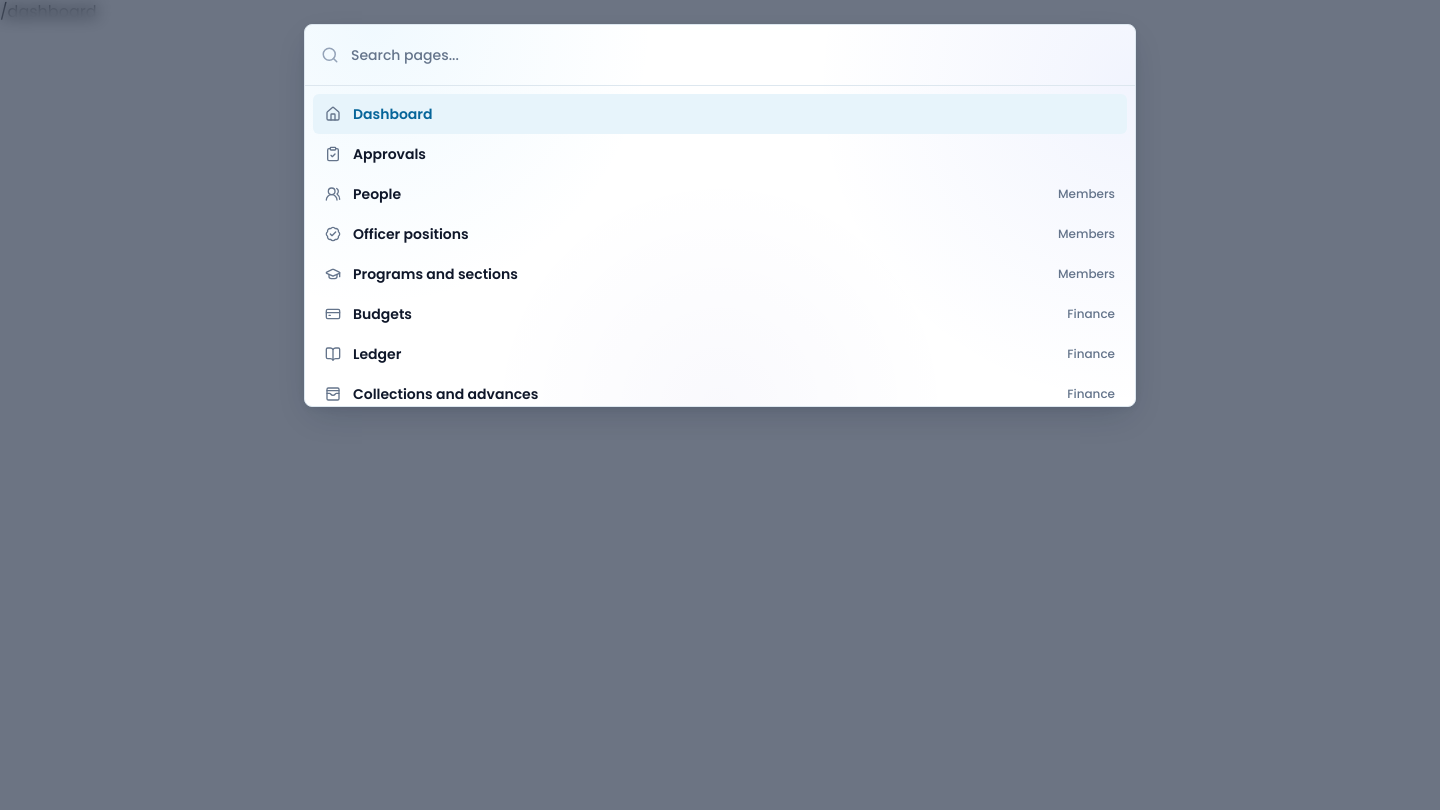
CommandPalette › finds ADMIN page by its old name Manage Users and shows the new label People
Type "Manage Users" into the dropdown labelled "Search pages" at (735, 55), box [351,37,1119,73]
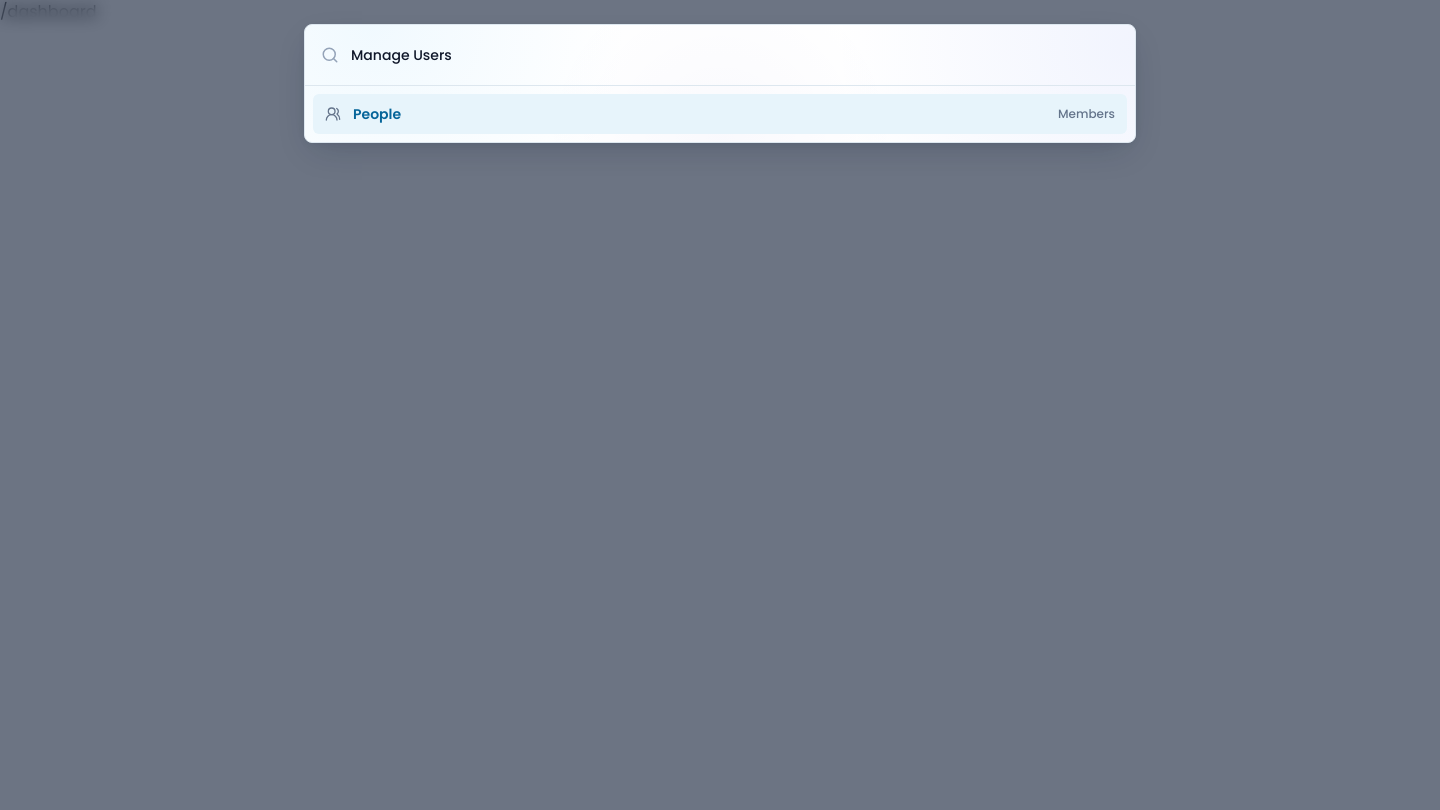
Expected: the option shows "People", [313,94,1127,134]
Press Enter in the dropdown named "Search pages", box [351,37,1119,73]
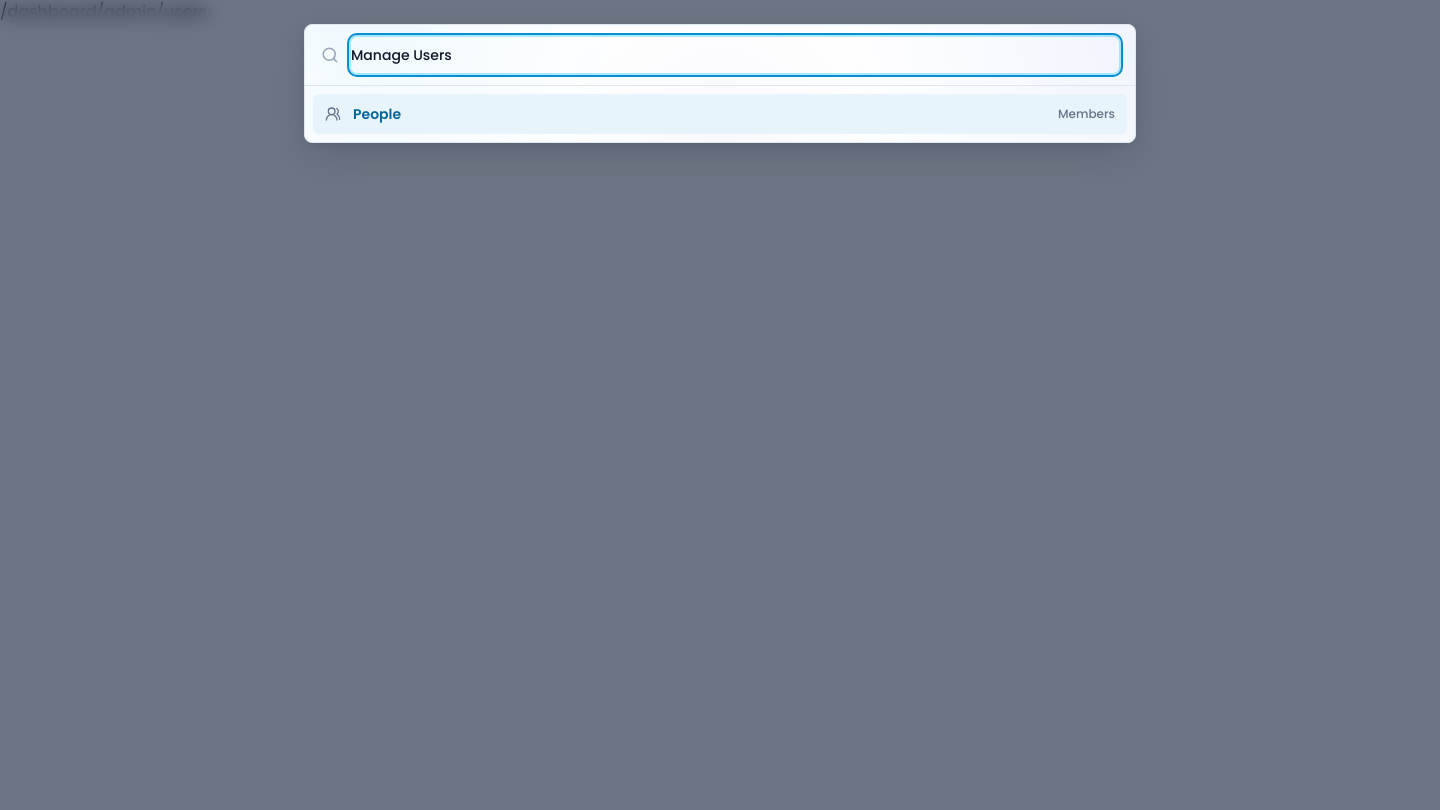
Expected: the text with test id "path" reads "/dashboard/admin/users", [0,0,207,23]
